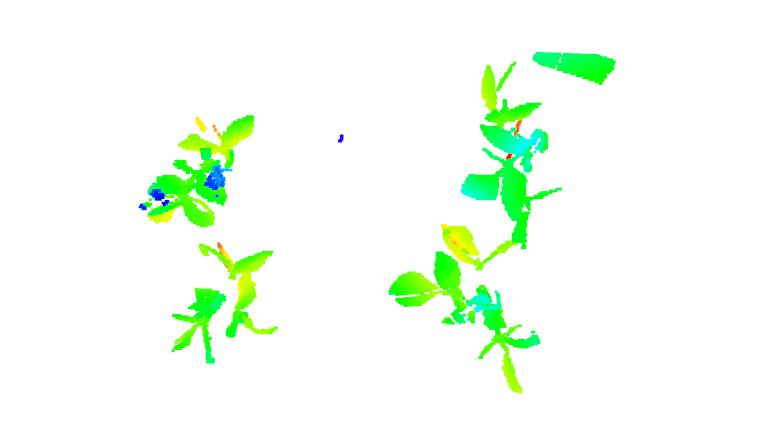mungbean: (381, 213, 551, 399), (167, 235, 284, 369), (459, 65, 557, 216), (142, 109, 268, 225)
